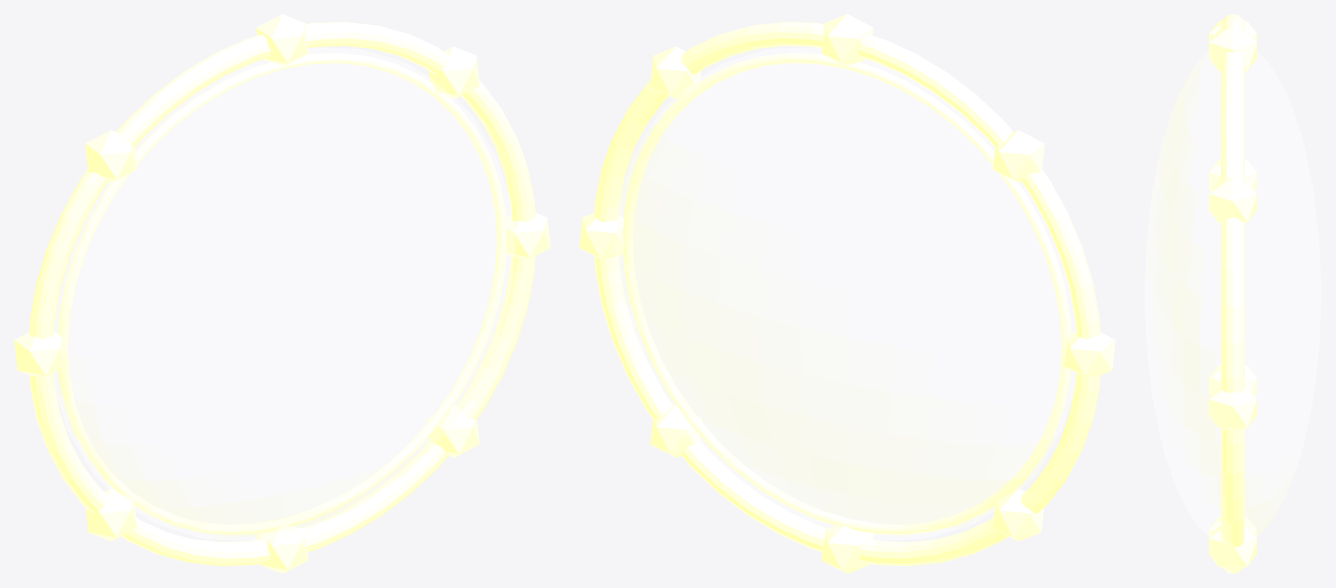
The model's file is VFX_03_三娃_铜头铁臂金钟护盾.glb.
3 renders of one model, left to right at view 1: azimuth 30°, elevation 25°; view 2: azimuth 150°, elevation 25°; view 3: azimuth 270°, elevation 25°, orthographic. The views are drawn at different scales.
Visible parts, largest first — view 1: Sphere, Torus, Torus.001, Icosphere.003, Icosphere.004, Icosphere.002, Icosphere.005, Icosphere.001, Icosphere.006, Icosphere.007, Icosphere; view 2: Sphere, Torus, Torus.001, Icosphere.003, Icosphere.004, Icosphere.002, Icosphere.005, Icosphere.001, Icosphere.006, Icosphere.007, Icosphere; view 3: Sphere, Torus, Icosphere.001, Icosphere, Icosphere.002, Icosphere.007, Icosphere.004, Icosphere.005, Icosphere.003, Icosphere.006.
Boxes of the visible parts, x1,y1,x2,y2 form: Sphere: [54, 47, 514, 540]; Torus: [29, 21, 535, 566]; Torus.001: [58, 53, 506, 534]; Icosphere.003: [85, 130, 136, 182]; Icosphere.004: [14, 332, 66, 377]; Icosphere.002: [256, 14, 308, 65]; Icosphere.005: [86, 488, 137, 541]; Icosphere.001: [429, 46, 479, 99]; Icosphere.006: [256, 525, 308, 573]; Icosphere.007: [428, 405, 479, 457]; Icosphere: [505, 213, 550, 259]; Sphere: [615, 47, 1075, 540]; Torus: [594, 21, 1100, 566]; Torus.001: [623, 53, 1071, 534]; Icosphere.003: [993, 130, 1044, 182]; Icosphere.004: [1063, 332, 1115, 377]; Icosphere.002: [821, 14, 873, 65]; Icosphere.005: [992, 488, 1043, 541]; Icosphere.001: [650, 46, 700, 99]; Icosphere.006: [821, 525, 873, 573]; Icosphere.007: [650, 405, 701, 457]; Icosphere: [579, 213, 624, 259]; Sphere: [1144, 52, 1321, 536]; Torus: [1221, 14, 1244, 573]; Icosphere.001: [1209, 177, 1256, 223]; Icosphere: [1209, 386, 1256, 430]; Icosphere.002: [1209, 25, 1256, 71]; Icosphere.007: [1209, 525, 1256, 571]; Icosphere.004: [1209, 159, 1256, 190]; Icosphere.005: [1209, 365, 1256, 396]; Icosphere.003: [1209, 20, 1256, 41]; Icosphere.006: [1209, 516, 1256, 537].
Size of the model in its own units: 3.76 by 3.8 by 1.13.
